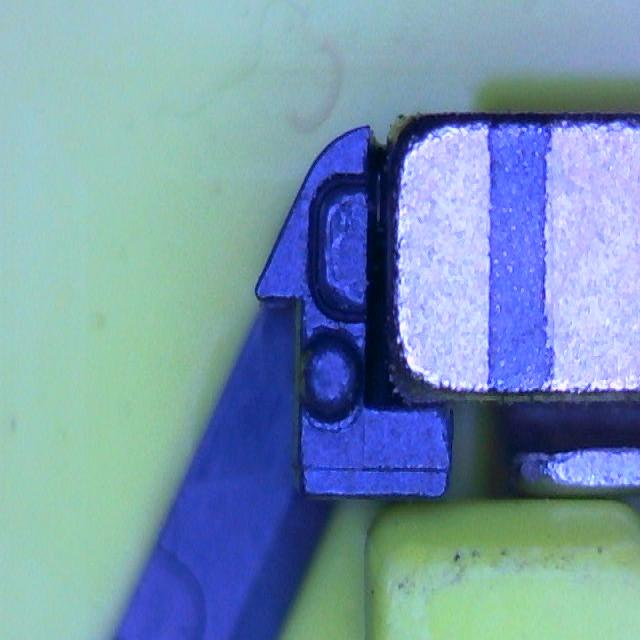lacking: (308, 172, 372, 324)
